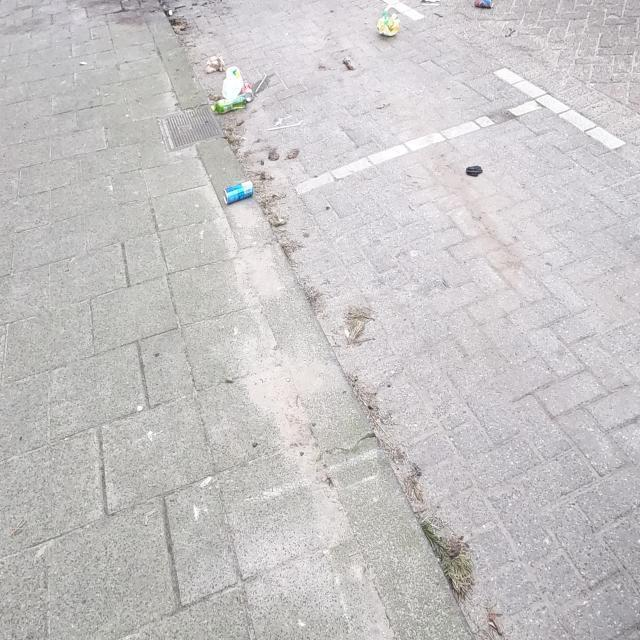Can-Metal: (222, 180, 255, 206), (242, 81, 254, 102), (474, 0, 494, 8)
Paper: (376, 3, 401, 37), (221, 64, 244, 100)
